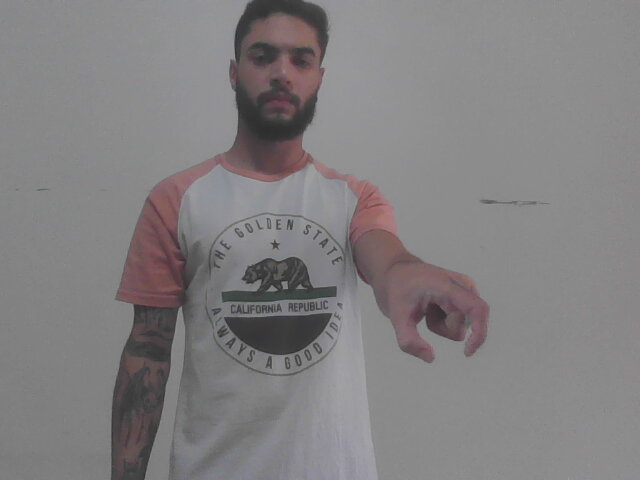x: (374, 265, 495, 374)
